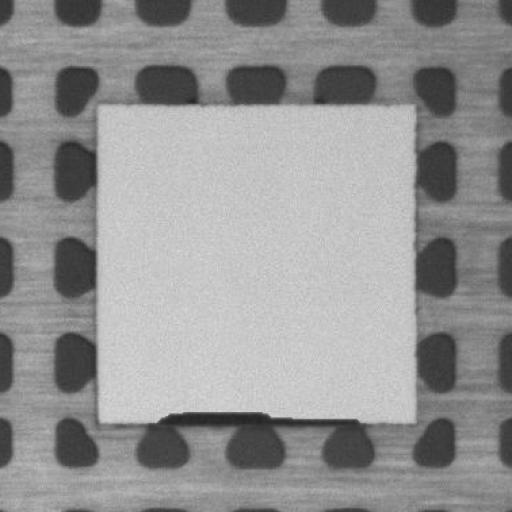DIE_BROKEN: (145, 408, 375, 427)
